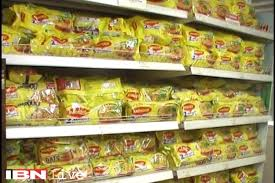maggie: (62, 103, 123, 121), (126, 101, 181, 120), (141, 44, 186, 63), (171, 146, 206, 164)
